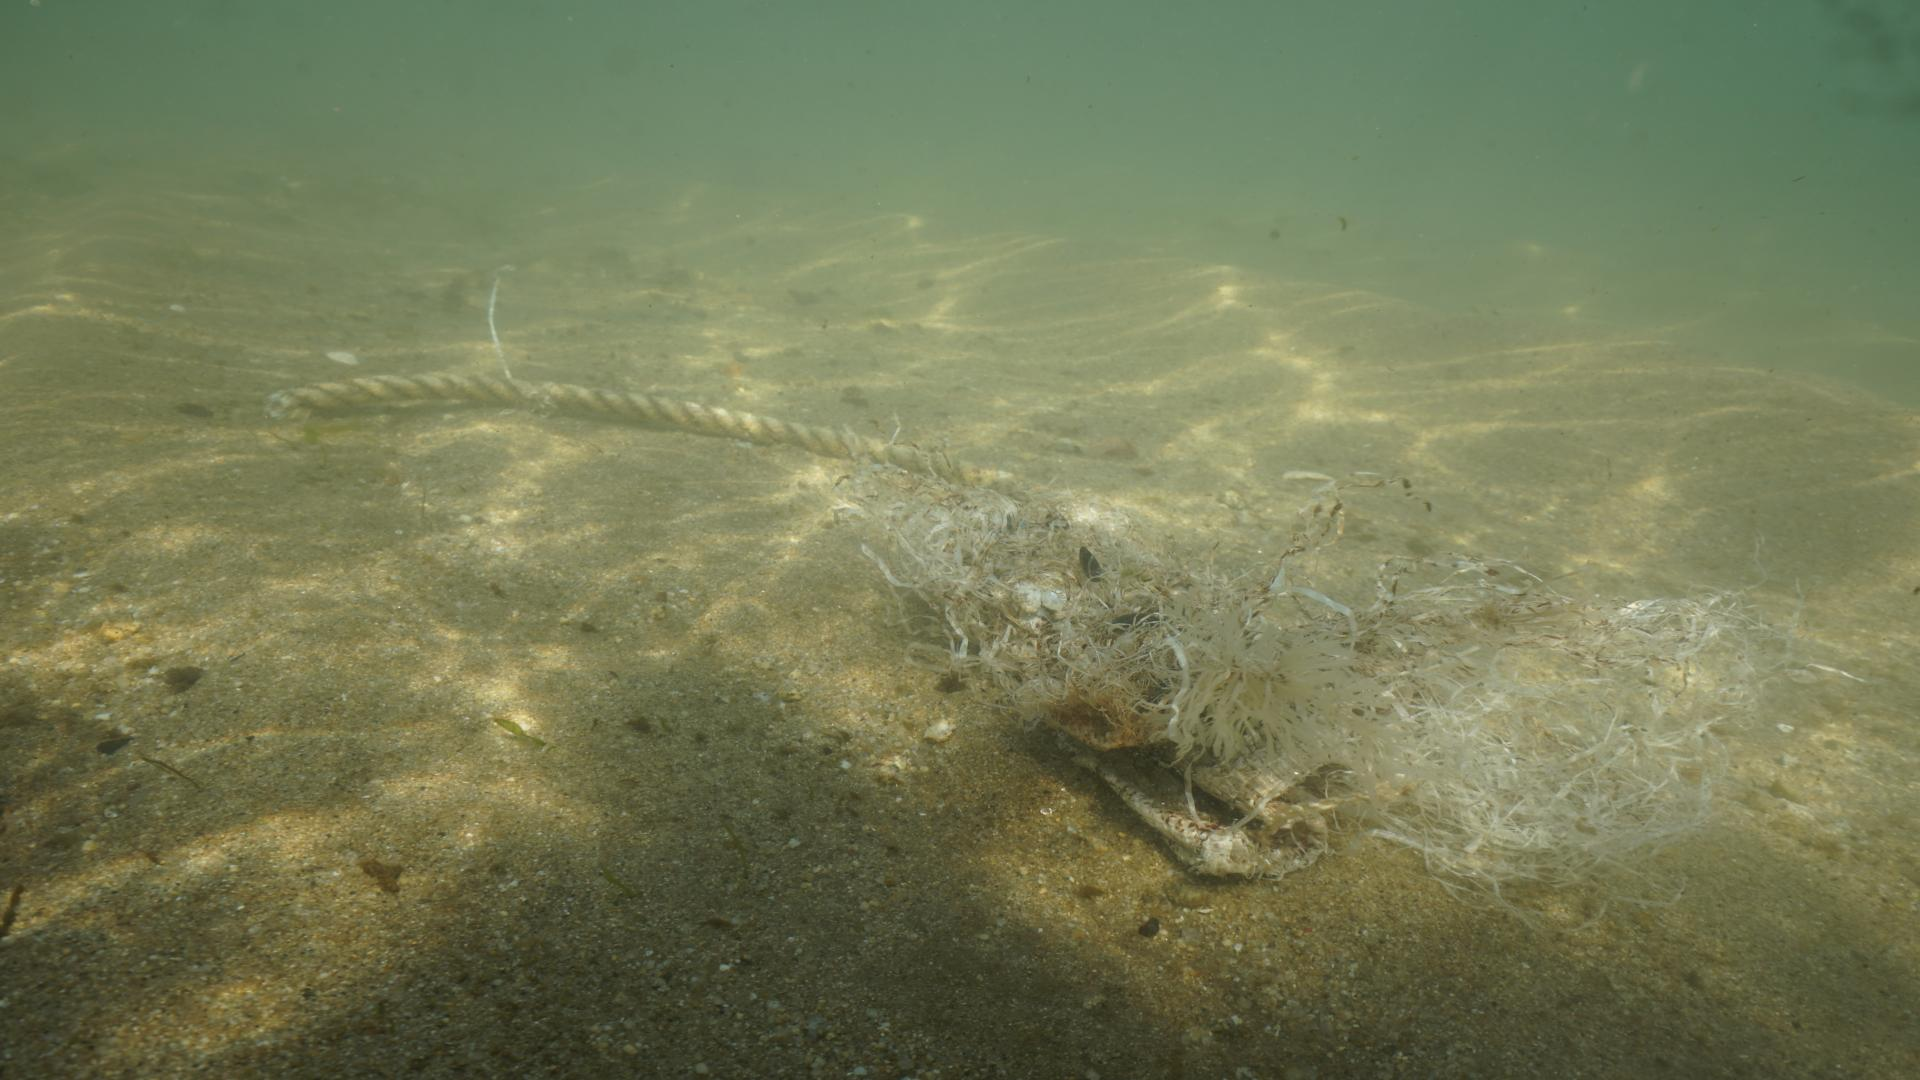rope: (260, 365, 1036, 502)
